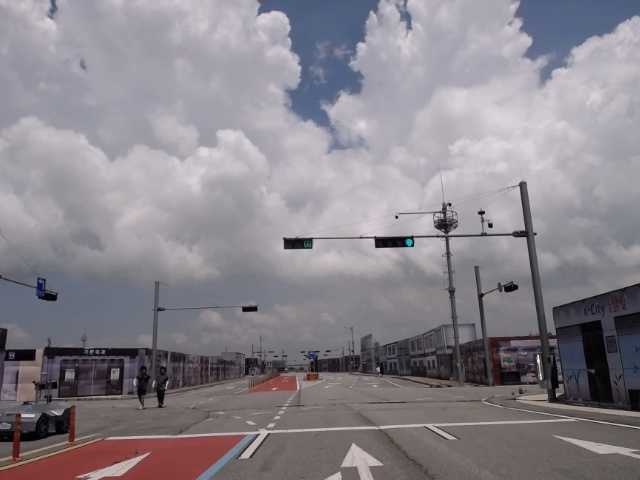straight_green_4: (373, 238, 414, 247)
